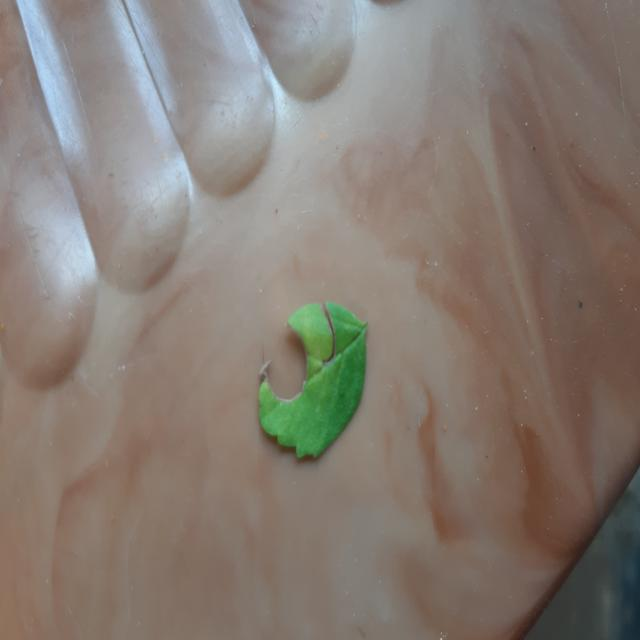defectedtecoma: (288, 302, 366, 380)
tecoma: (259, 302, 366, 458)
